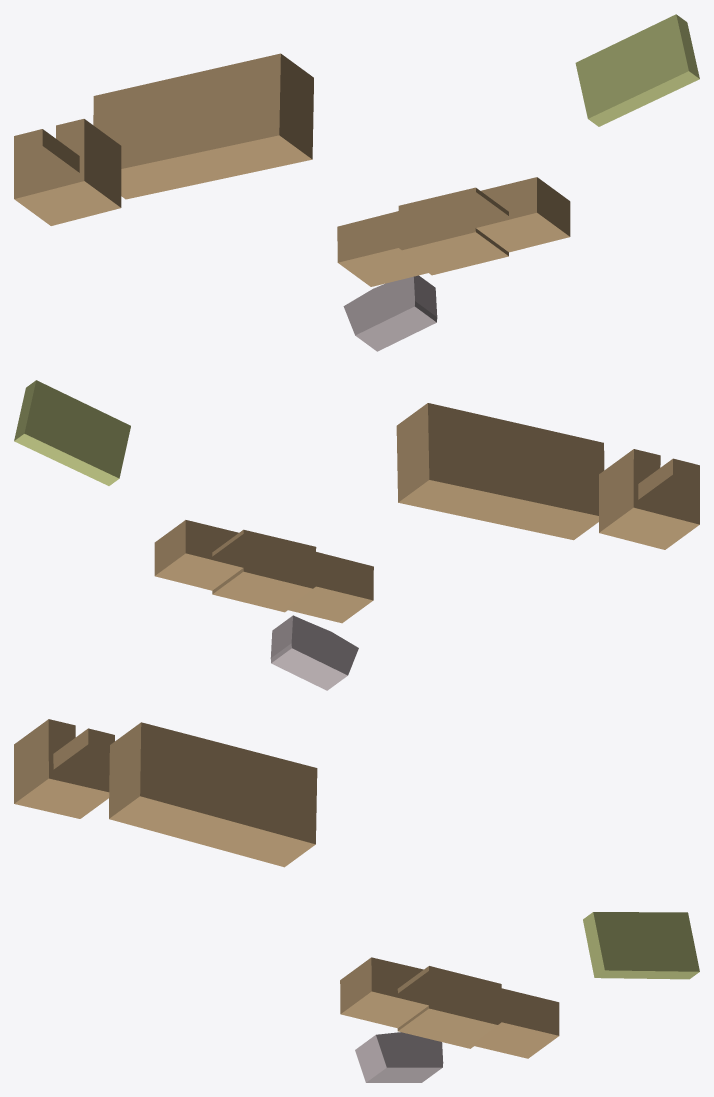
3 renders of one model, top to bottom at view 1: azimuth 30°, elevation 25°; view 2: azimuth 150°, elevation 25°; view 3: azimuth 330°, elevation 25°, orthographic. The views are drawn at different scales.
Parts seen in each view (by area): view 1: 0_0_3_1_2_3; view 2: 0_0_3_1_2_3; view 3: 0_0_3_1_2_3.
Boxes of the visible parts, x1=… form: 0_0_3_1_2_3: x1=14, y1=14, x2=699, y2=351; 0_0_3_1_2_3: x1=14, y1=380, x2=699, y2=690; 0_0_3_1_2_3: x1=14, y1=719, x2=699, y2=1082.
Bounding box in the file's own units: 320 × 136 × 37.9.
